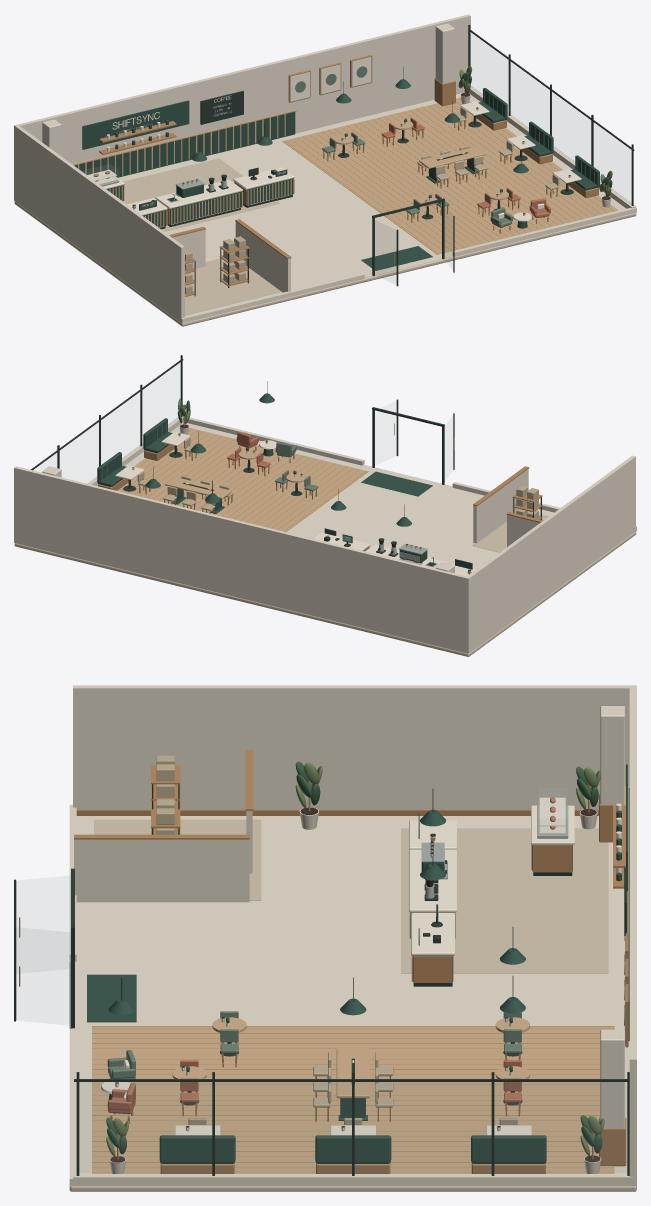
File: shiftsync-cafe.glb
3 renders of one model, top to bottom at view 1: azimuth 30°, elevation 25°; view 2: azimuth 150°, elevation 25°; view 3: azimuth 270°, elevation 25°, orthographic. The views are drawn at different scales.
Parts seen in each view (by area): view 1: Zone_Dining_Floor, Baked_Store_Wall_Back_cafe_v2_plaster, Floor_Terrazzo, Baked_Store_Wall_West_cafe_v2_plaster, Baked_Store_Wall_Back_cafe_v2_moss, Zone_Barista_Floor, Zone_Storage_Floor, Baked_Store_Wall_Front_Cutaway_cafe_v2_plaster, Main_Floor_Plinth, Baked_Store_Wall_Back_cafe_v2_oak_edge, Baked_Partition_Storage_East_cafe_v2_plaster, Baked_Store_Wall_Back_cafe_v2_ivory (+25 smaller); view 2: Baked_Store_Wall_Back_cafe_v2_plaster, Baked_Store_Wall_West_cafe_v2_plaster, Zone_Dining_Floor, Floor_Terrazzo, Main_Floor_Plinth, Baked_Partition_Storage_East_cafe_v2_plaster, Baked_Store_Wall_Front_Cutaway_cafe_v2_plaster, Baked_Window_East_Cutaway_cafe_v2_charcoal, Store_Entrance_Mat, Baked_Store_Wall_Front_Cutaway_cafe_v2_charcoal, Baked_Ceiling_Beam_Lighting_cafe_v2_moss, Baked_Booth_Section_2_cafe_v2_moss (+7 smaller); view 3: Floor_Terrazzo, Baked_Store_Wall_West_cafe_v2_plaster, Zone_Dining_Floor, Zone_Barista_Floor, Baked_Partition_Storage_East_cafe_v2_plaster, Baked_Window_East_Cutaway_cafe_v2_plaster, Baked_Store_Wall_Back_cafe_v2_plaster, Main_Floor_Plinth, Baked_Window_East_Cutaway_cafe_v2_charcoal, Zone_Storage_Floor, Baked_Store_Wall_West_cafe_v2_oak, Baked_Store_Column_01_cafe_v2_plaster (+29 smaller).
Boxes of the visible parts, left/top/right/bottom form: Zone_Dining_Floor: left=283, top=97, right=618, bottom=254; Baked_Store_Wall_Back_cafe_v2_plaster: left=14, top=14, right=470, bottom=201; Floor_Terrazzo: left=118, top=92, right=626, bottom=316; Baked_Store_Wall_West_cafe_v2_plaster: left=15, top=125, right=184, bottom=322; Baked_Store_Wall_Back_cafe_v2_moss: left=74, top=100, right=295, bottom=177; Zone_Barista_Floor: left=123, top=158, right=280, bottom=231; Zone_Storage_Floor: left=185, top=258, right=281, bottom=315; Baked_Store_Wall_Front_Cutaway_cafe_v2_plaster: left=181, top=207, right=636, bottom=323; Main_Floor_Plinth: left=14, top=201, right=636, bottom=326; Baked_Store_Wall_Back_cafe_v2_oak_edge: left=72, top=109, right=297, bottom=176; Baked_Partition_Storage_East_cafe_v2_plaster: left=235, top=221, right=290, bottom=292; Baked_Store_Wall_Back_cafe_v2_ivory: left=112, top=57, right=371, bottom=129; Baked_Store_Wall_Back_cafe_v2_plaster: left=14, top=466, right=470, bottom=653; Baked_Store_Wall_West_cafe_v2_plaster: left=467, top=455, right=635, bottom=651; Zone_Dining_Floor: left=117, top=427, right=367, bottom=531; Floor_Terrazzo: left=97, top=423, right=553, bottom=569; Main_Floor_Plinth: left=14, top=465, right=636, bottom=656; Baked_Partition_Storage_East_cafe_v2_plaster: left=473, top=469, right=528, bottom=543; Baked_Store_Wall_Front_Cutaway_cafe_v2_plaster: left=187, top=417, right=636, bottom=530; Baked_Window_East_Cutaway_cafe_v2_charcoal: left=30, top=355, right=183, bottom=470; Store_Entrance_Mat: left=361, top=471, right=432, bottom=496; Baked_Store_Wall_Front_Cutaway_cafe_v2_charcoal: left=372, top=399, right=454, bottom=484; Baked_Ceiling_Beam_Lighting_cafe_v2_moss: left=145, top=393, right=411, bottom=526; Baked_Booth_Section_2_cafe_v2_moss: left=143, top=418, right=172, bottom=453; Floor_Terrazzo: left=72, top=816, right=629, bottom=1173; Baked_Store_Wall_West_cafe_v2_plaster: left=73, top=685, right=633, bottom=809; Zone_Dining_Floor: left=92, top=1026, right=614, bottom=1173; Zone_Barista_Floor: left=401, top=828, right=608, bottom=973; Baked_Partition_Storage_East_cafe_v2_plaster: left=74, top=839, right=249, bottom=902; Baked_Window_East_Cutaway_cafe_v2_plaster: left=73, top=1174, right=633, bottom=1186; Baked_Store_Wall_Back_cafe_v2_plaster: left=629, top=685, right=636, bottom=1186; Main_Floor_Plinth: left=69, top=962, right=636, bottom=1191; Baked_Window_East_Cutaway_cafe_v2_charcoal: left=74, top=1072, right=629, bottom=1175; Zone_Storage_Floor: left=94, top=819, right=261, bottom=900; Baked_Store_Wall_West_cafe_v2_oak: left=76, top=809, right=598, bottom=815; Baked_Store_Column_01_cafe_v2_plaster: left=600, top=705, right=624, bottom=804.
Size of the model in its own units: 22.22 by 3.68 by 15.61.
